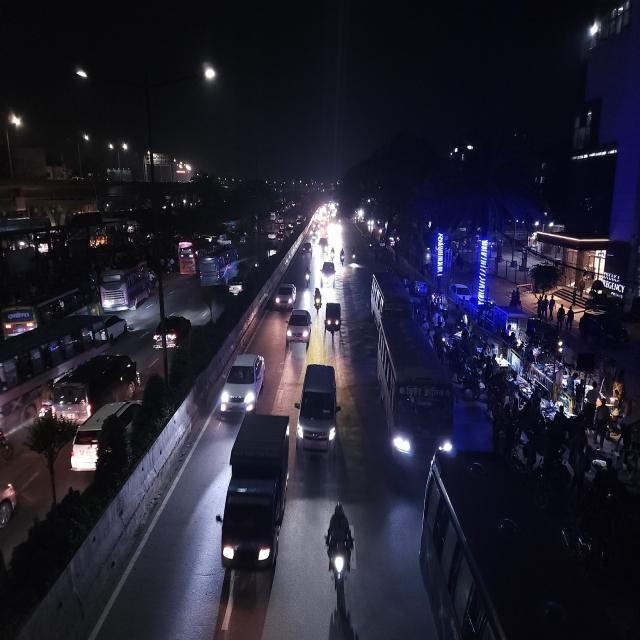bus: (420, 448, 636, 639), (0, 314, 126, 434), (374, 306, 452, 481), (101, 261, 153, 313), (195, 244, 237, 288), (177, 240, 196, 276)
car: (67, 397, 146, 475), (50, 350, 141, 416), (297, 359, 339, 462), (218, 347, 266, 416), (149, 310, 193, 354), (285, 306, 312, 352), (0, 475, 18, 539), (323, 298, 343, 338), (273, 278, 297, 310), (226, 273, 247, 299), (319, 258, 337, 288), (266, 244, 278, 260)
cng: (323, 299, 342, 339)
motorcycle: (324, 499, 356, 600), (0, 426, 14, 462), (312, 284, 324, 314), (303, 264, 314, 287), (339, 247, 347, 270), (329, 244, 336, 258)
truck: (221, 409, 293, 584)
